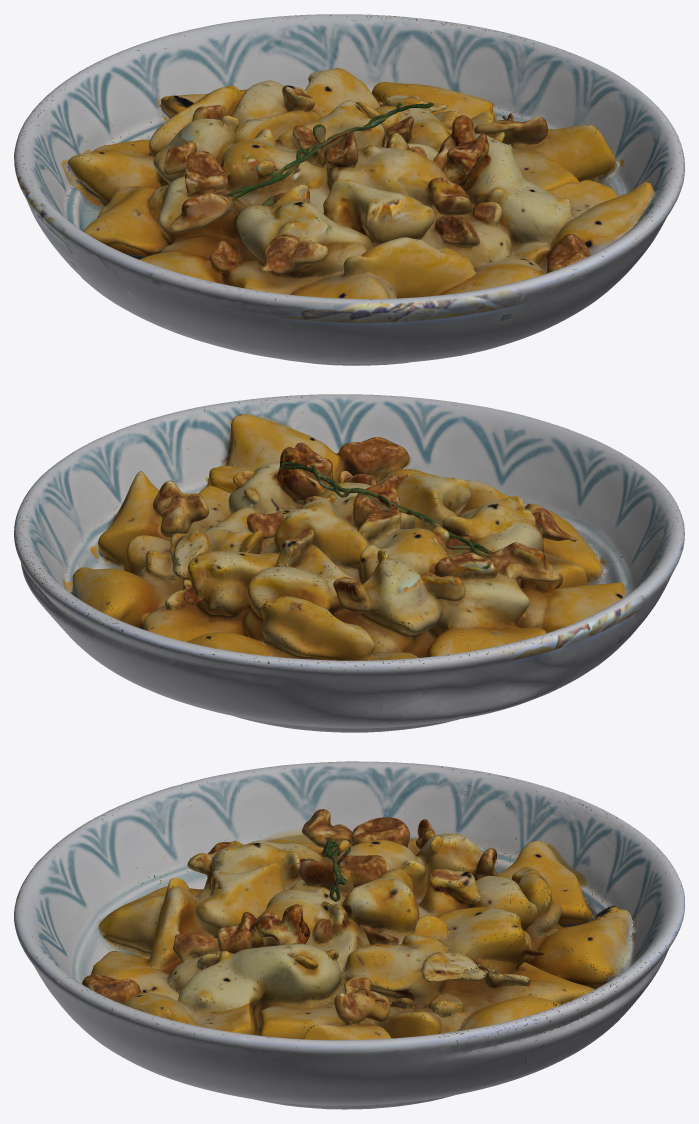
File: gnocchi.glb
3 views of the same model, one above another, from view 1: azimuth 30°, elevation 25°; view 2: azimuth 150°, elevation 25°; view 3: azimuth 270°, elevation 25° (orthographic).
Visible parts, largest first — view 1: Dish; view 2: Dish; view 3: Dish.
Part boxes in pixels (left/top/right/bottom): Dish: left=14, top=14, right=684, bottom=365; Dish: left=14, top=394, right=684, bottom=732; Dish: left=14, top=761, right=684, bottom=1109.
Size of the model in its own units: 0.2292 by 0.0682 by 0.23.
Materials: 1 (1 with a texture image).
